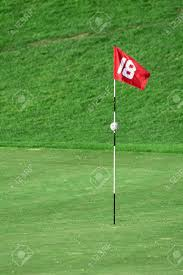Flag: (113, 45, 150, 91)
